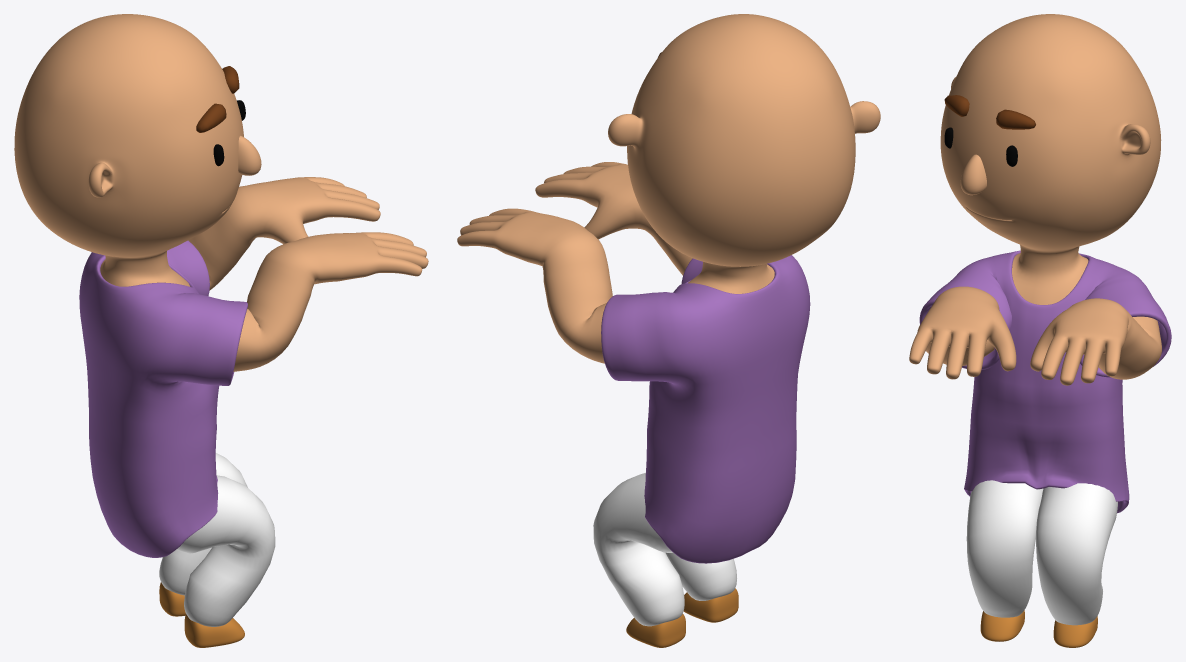
File: full_stack.gltf
3 views of the same model, side by side, from view 1: azimuth 30°, elevation 25°; view 2: azimuth 150°, elevation 25°; view 3: azimuth 270°, elevation 25° (orthographic). The views are drawn at different scales.
Visible parts, largest first — view 1: body.001, T-shirt, Cube.024, Cube.023, Cube.025, Eyebrow.007, nose.001, Cube.026; view 2: body.001, T-shirt, Cube.023, Cube.024, Cube.026, Cube.025; view 3: body.001, T-shirt, Cube.023, Cube.024, Eyebrow.007, Cube.025, Cube.026, nose.001, eye.001.
Part boxes in pixels (<box>): body.001: <box>14,14,428,371</box>; T-shirt: <box>79,240,247,557</box>; Cube.024: <box>176,475,275,626</box>; Cube.023: <box>159,453,247,595</box>; Cube.025: <box>184,614,244,647</box>; Eyebrow.007: <box>196,66,239,132</box>; nose.001: <box>238,135,261,175</box>; Cube.026: <box>159,582,185,616</box>; body.001: <box>457,14,880,363</box>; T-shirt: <box>601,255,810,563</box>; Cube.023: <box>593,472,684,626</box>; Cube.024: <box>666,552,736,600</box>; Cube.026: <box>626,614,685,647</box>; Cube.025: <box>683,588,738,622</box>; body.001: <box>909,14,1161,385</box>; T-shirt: <box>919,250,1171,513</box>; Cube.023: <box>1036,483,1117,625</box>; Cube.024: <box>966,480,1043,617</box>; Eyebrow.007: <box>944,95,1035,129</box>; Cube.025: <box>980,610,1024,641</box>; Cube.026: <box>1053,616,1097,647</box>; nose.001: <box>960,154,986,195</box>; eye.001: <box>944,127,1017,166</box>.
Bounding box in the file's own units: 9.72 × 15.9 × 6.5.
